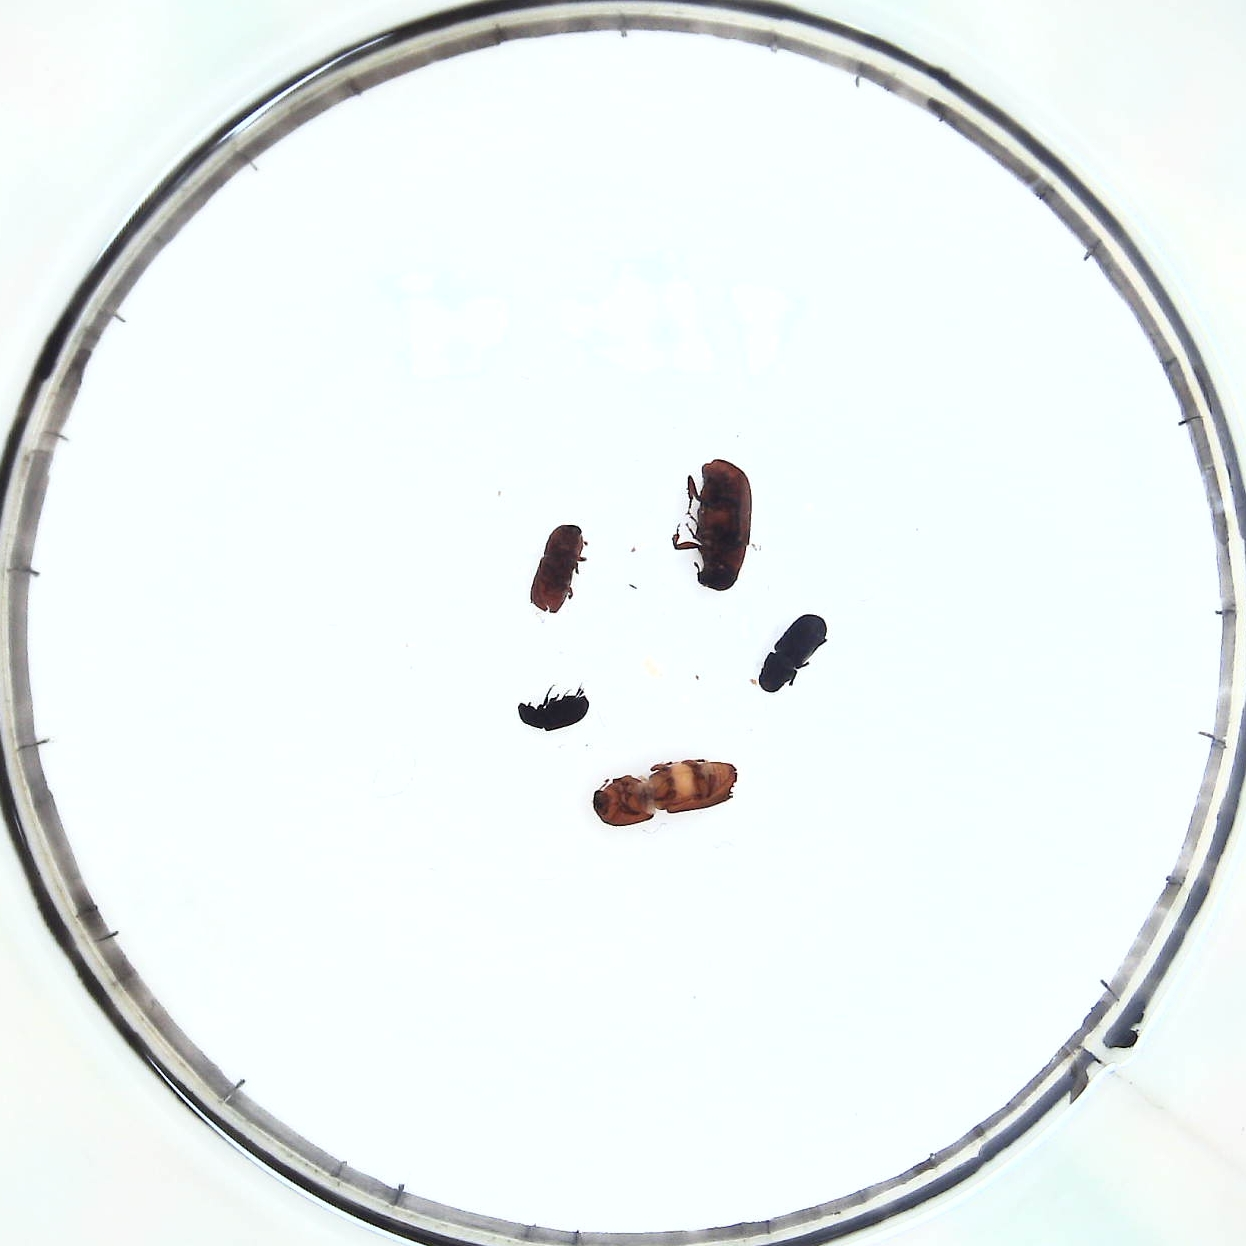Boerner: (586, 758, 738, 827)
Leconte: (674, 458, 758, 597)
Linnaeus: (531, 521, 586, 615)
armandi: (759, 613, 826, 697)
coleoptera: (520, 690, 591, 730)
